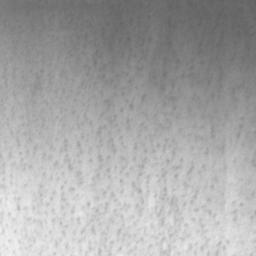Pitted surface: (161, 187, 177, 206), (157, 209, 164, 226), (132, 182, 142, 193)
